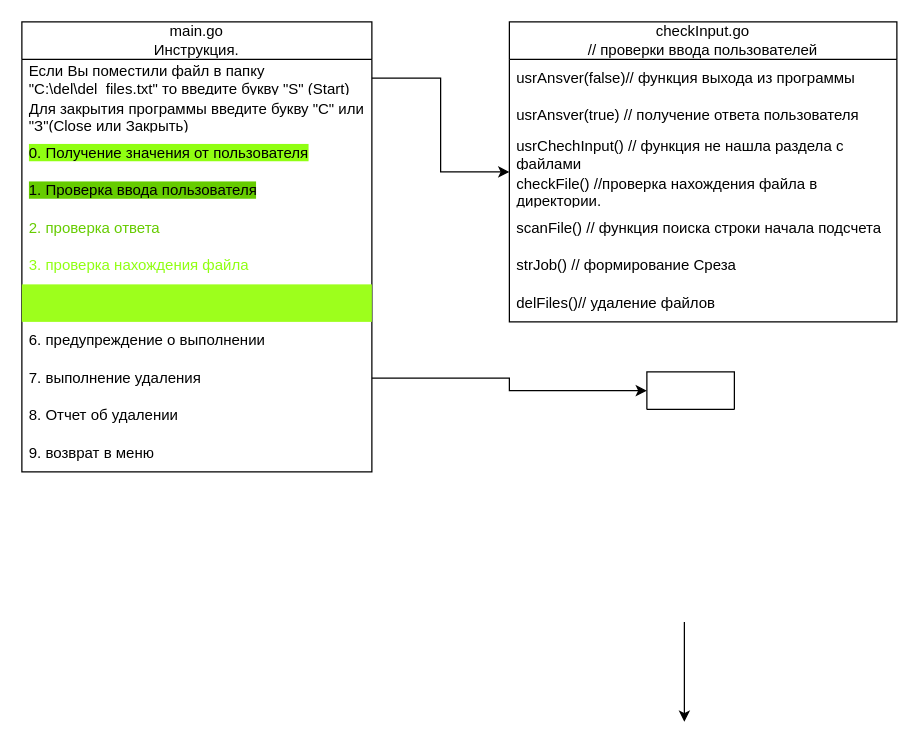
Image size: 919x754. Some labels were removed from this diagram. The centre of each missing label's shape, as x and y in pixels:
4. проверка информации в файла scanFile: (196,302)
EXIT: (690,390)
